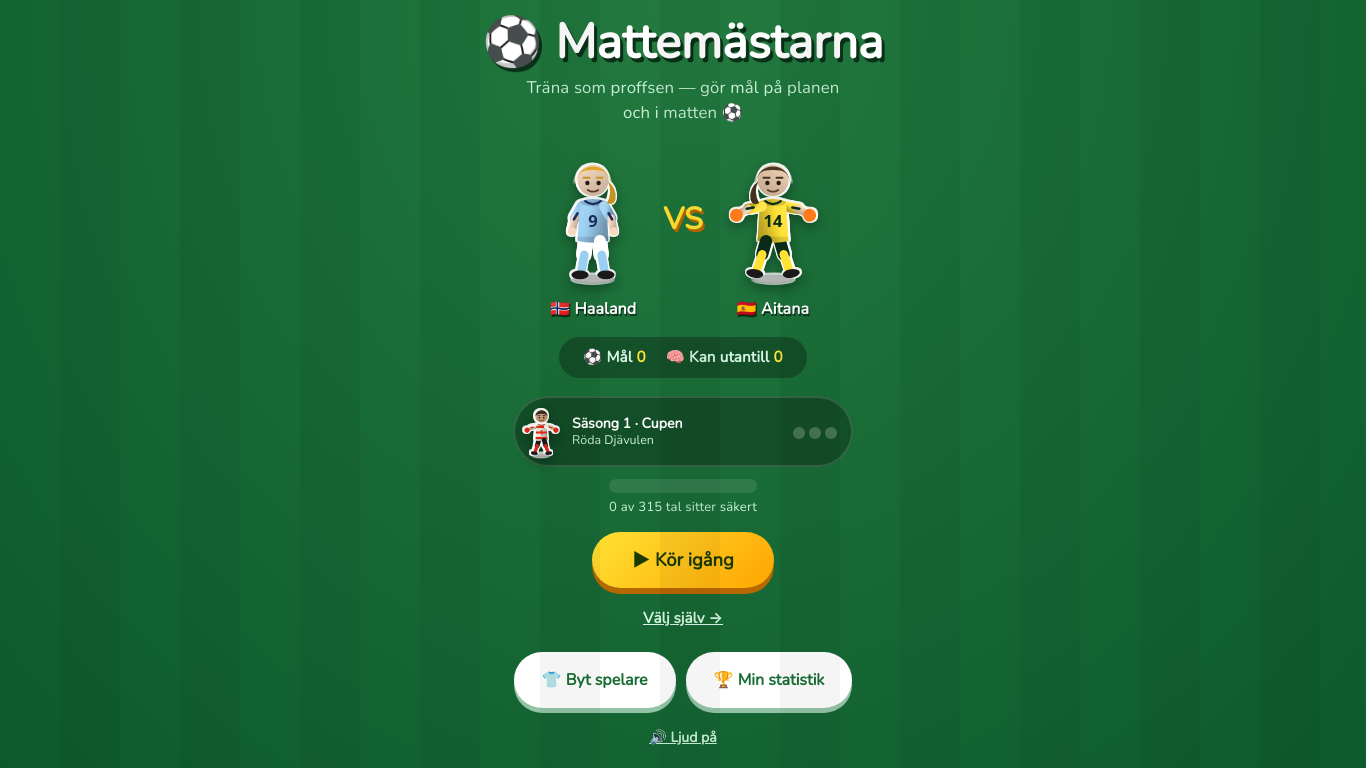
a whole round › reaches the result screen and persists what was earned
Click the button "▶ Kör igång".
click(683, 560)  # box [592,532,774,588]
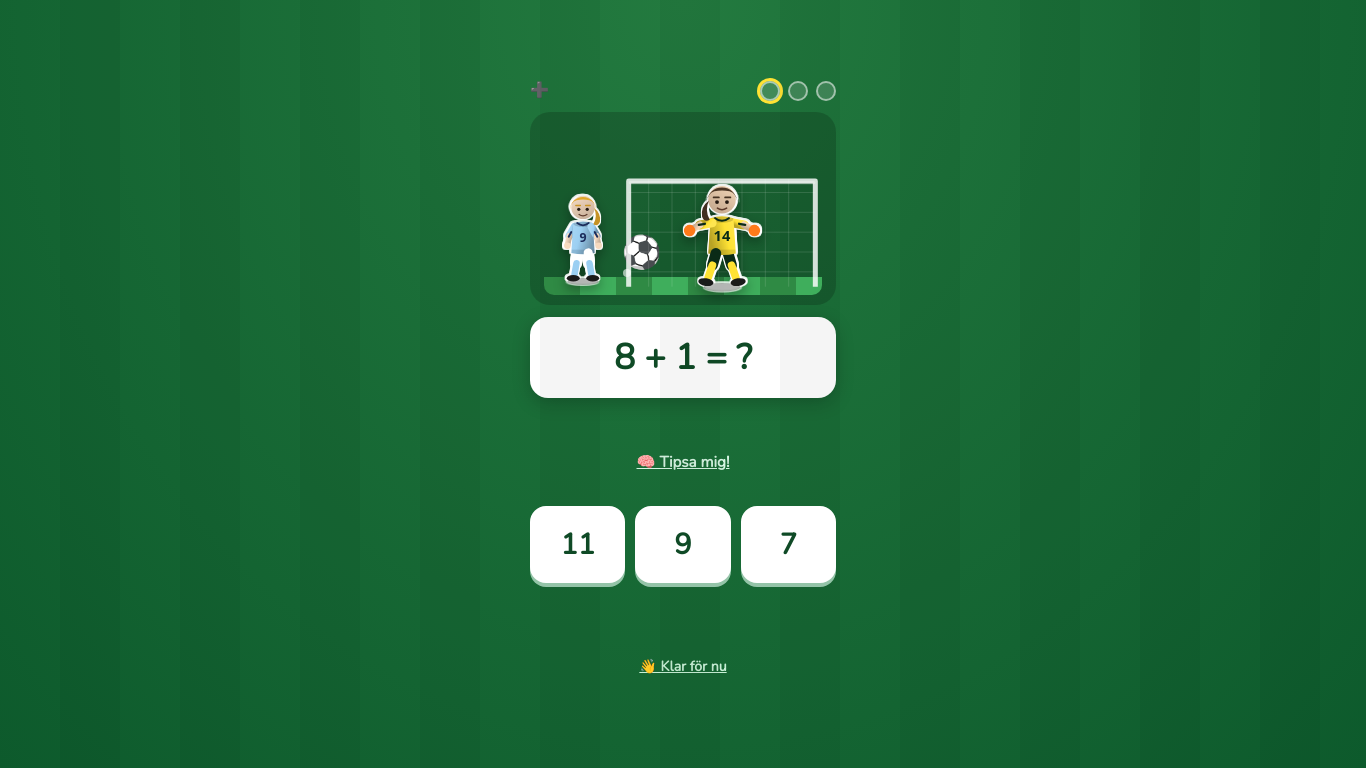
Click the button with class "ans-btn" showing "9".
click(683, 544)  # box [635,506,731,583]
Wait 1500 ms
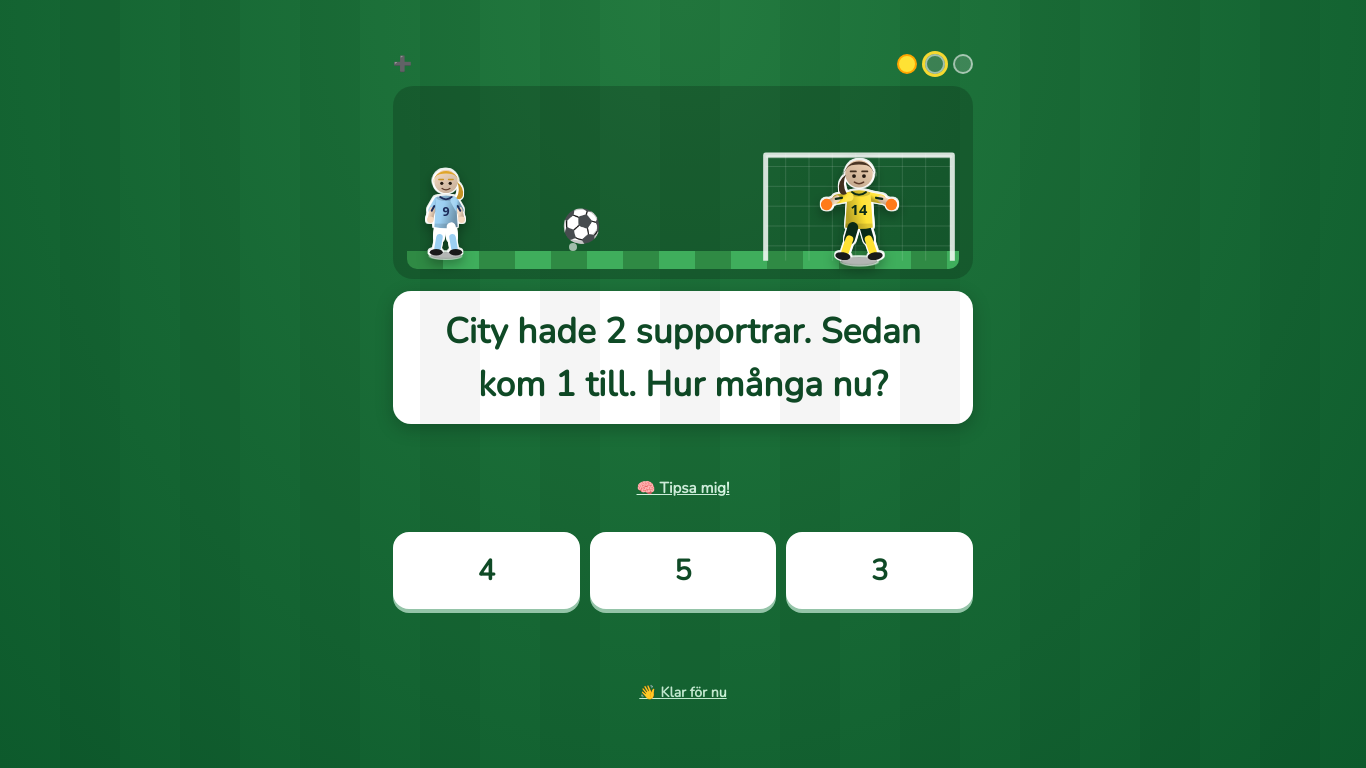
Click the button with class "ans-btn" showing "4".
click(486, 571)  # box [393,532,580,609]
Wait 1500 ms
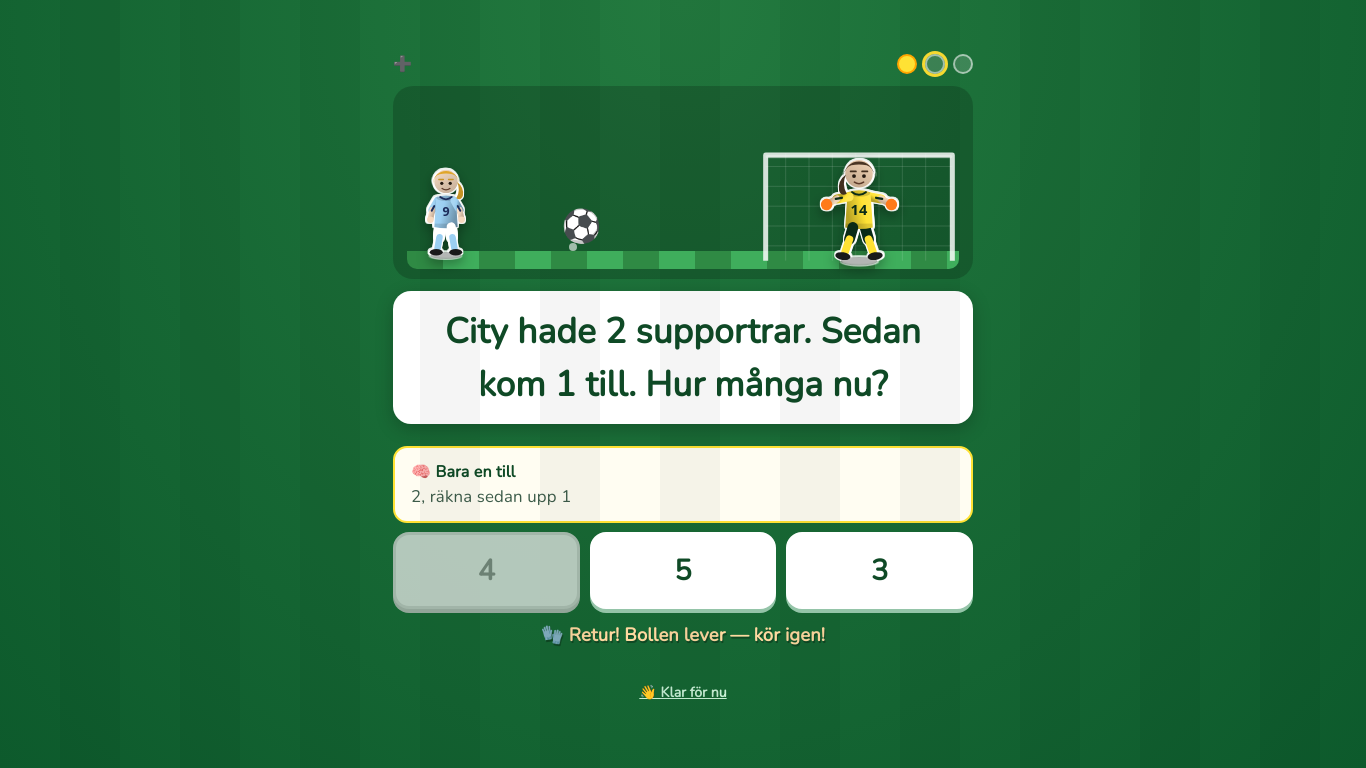
Click the button with class "ans-btn" showing "5".
click(683, 571)  # box [590,532,776,609]
Wait 1500 ms
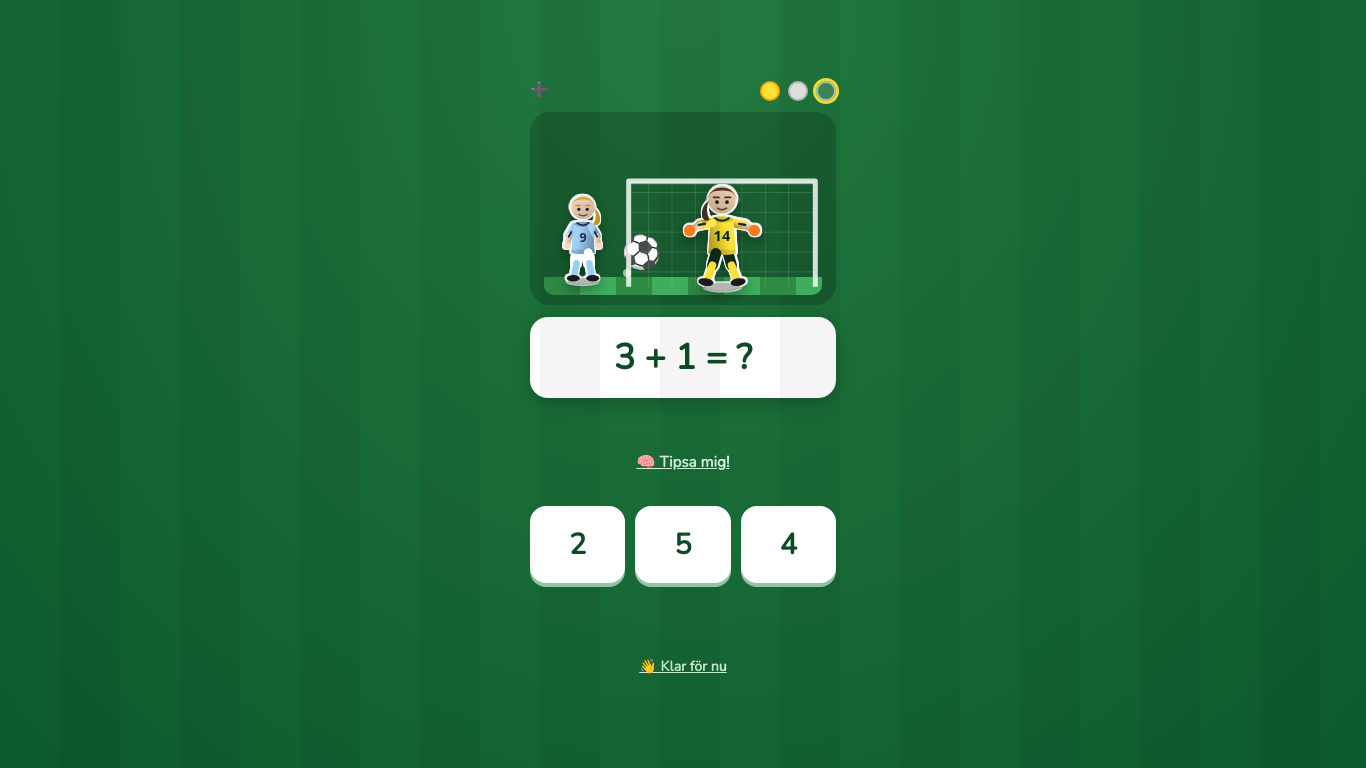
Click the button with class "ans-btn" showing "4".
click(788, 544)  # box [741,506,836,583]
Wait 2000 ms
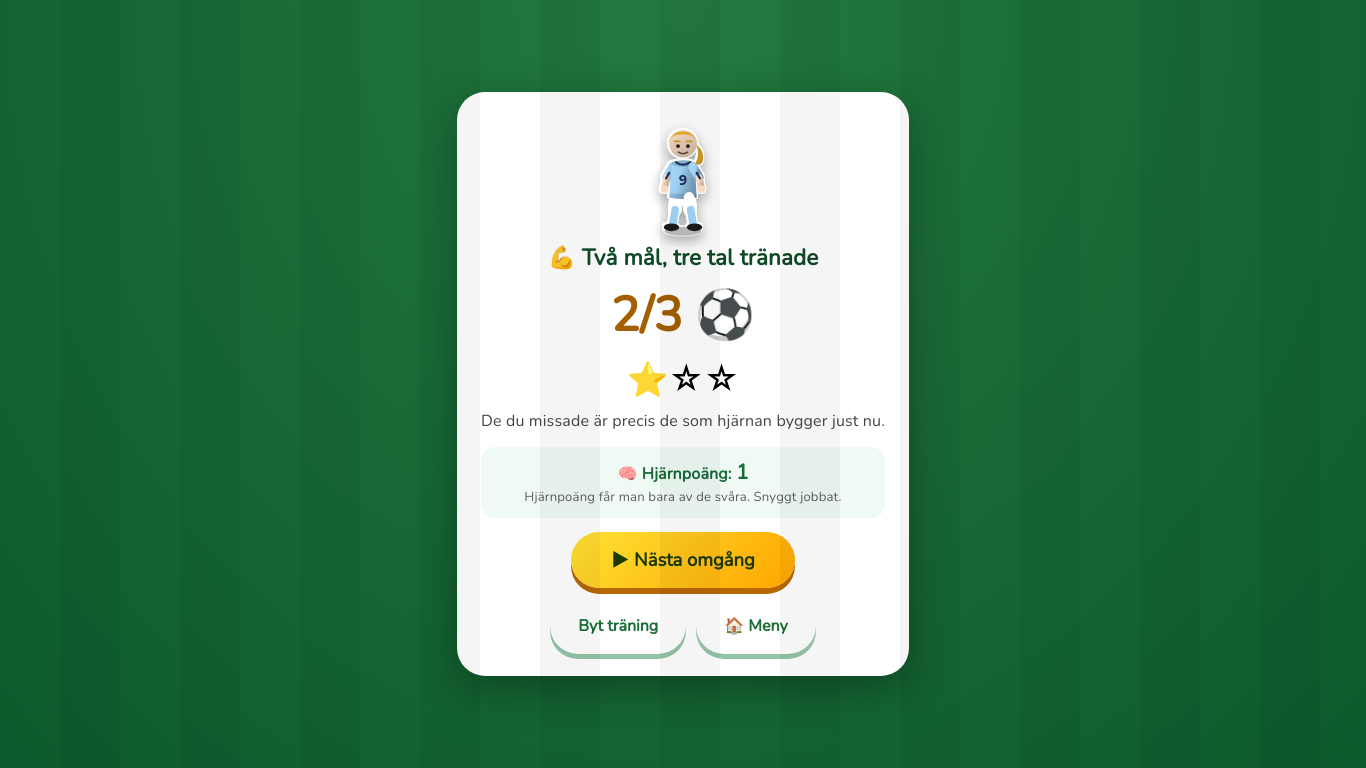
Expected: the text with class "result-score" reads "2/3 ⚽", [611,282,755,348]
